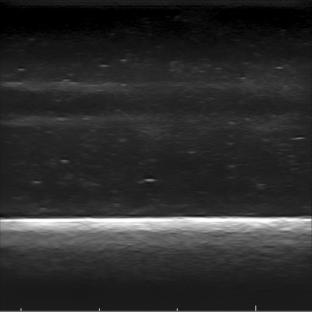vessel: (0, 81, 54, 131)
